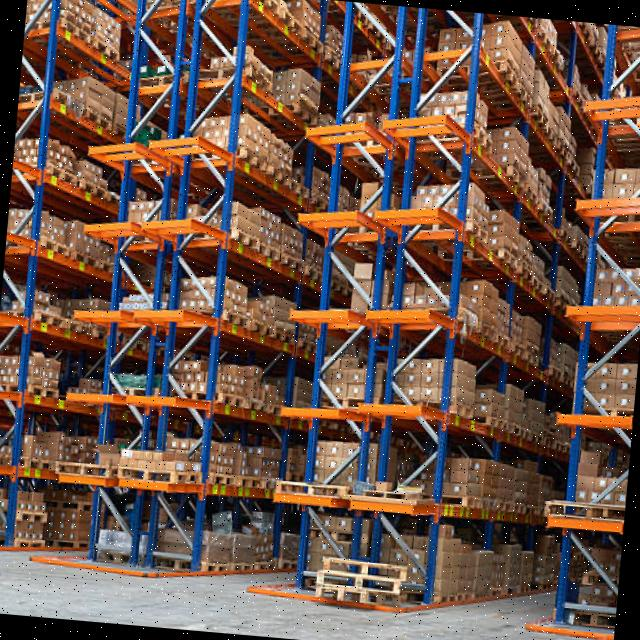Wooden-Pallets: (318, 554, 412, 584), (310, 574, 406, 596), (40, 160, 80, 186), (13, 504, 52, 528), (202, 554, 234, 581), (32, 308, 69, 328), (215, 388, 247, 410), (208, 468, 240, 489), (25, 381, 64, 398), (228, 234, 264, 252), (20, 452, 56, 470), (236, 152, 272, 168), (218, 312, 248, 329)
